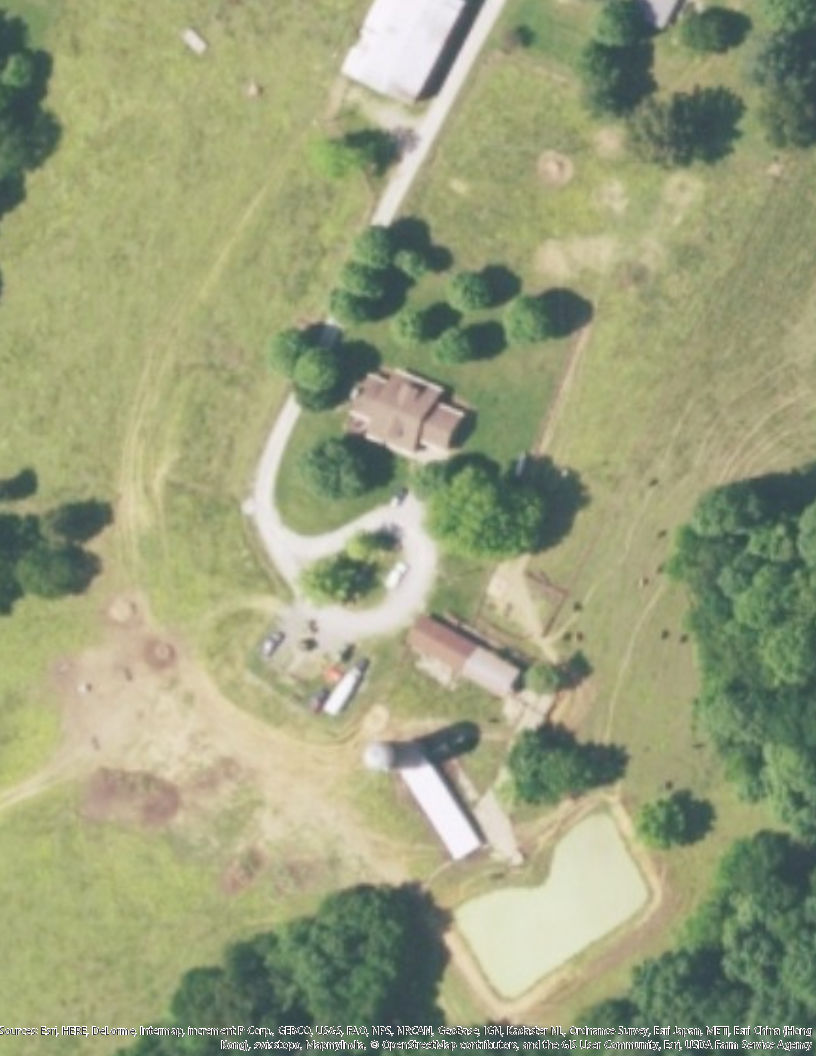cafo: (339, 1, 485, 111), (380, 739, 492, 865)
